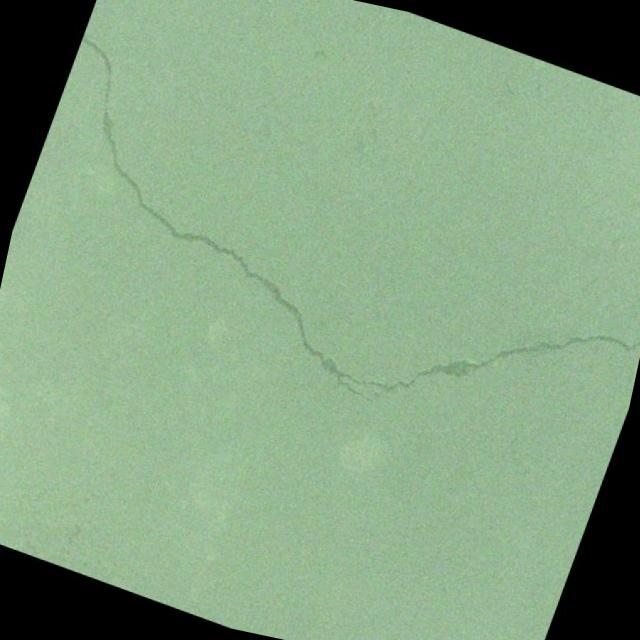crack: (0, 24, 640, 489), (619, 299, 640, 321)
